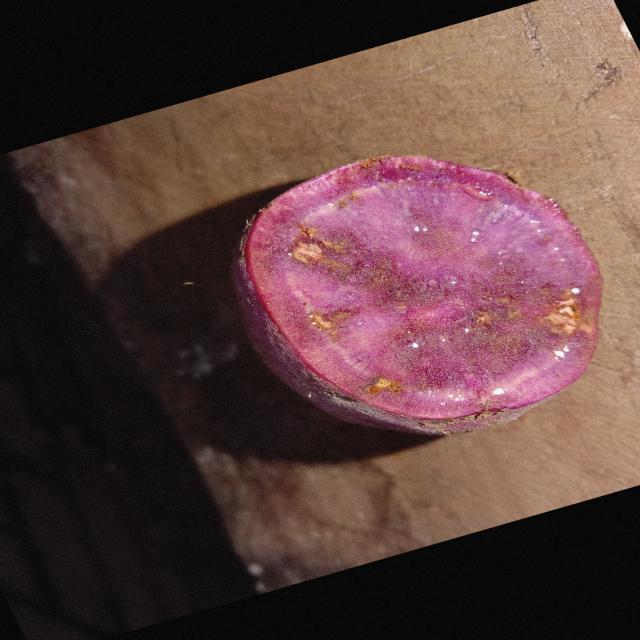Sick Sweet Potato_Tuber Rot: (233, 156, 602, 435)
